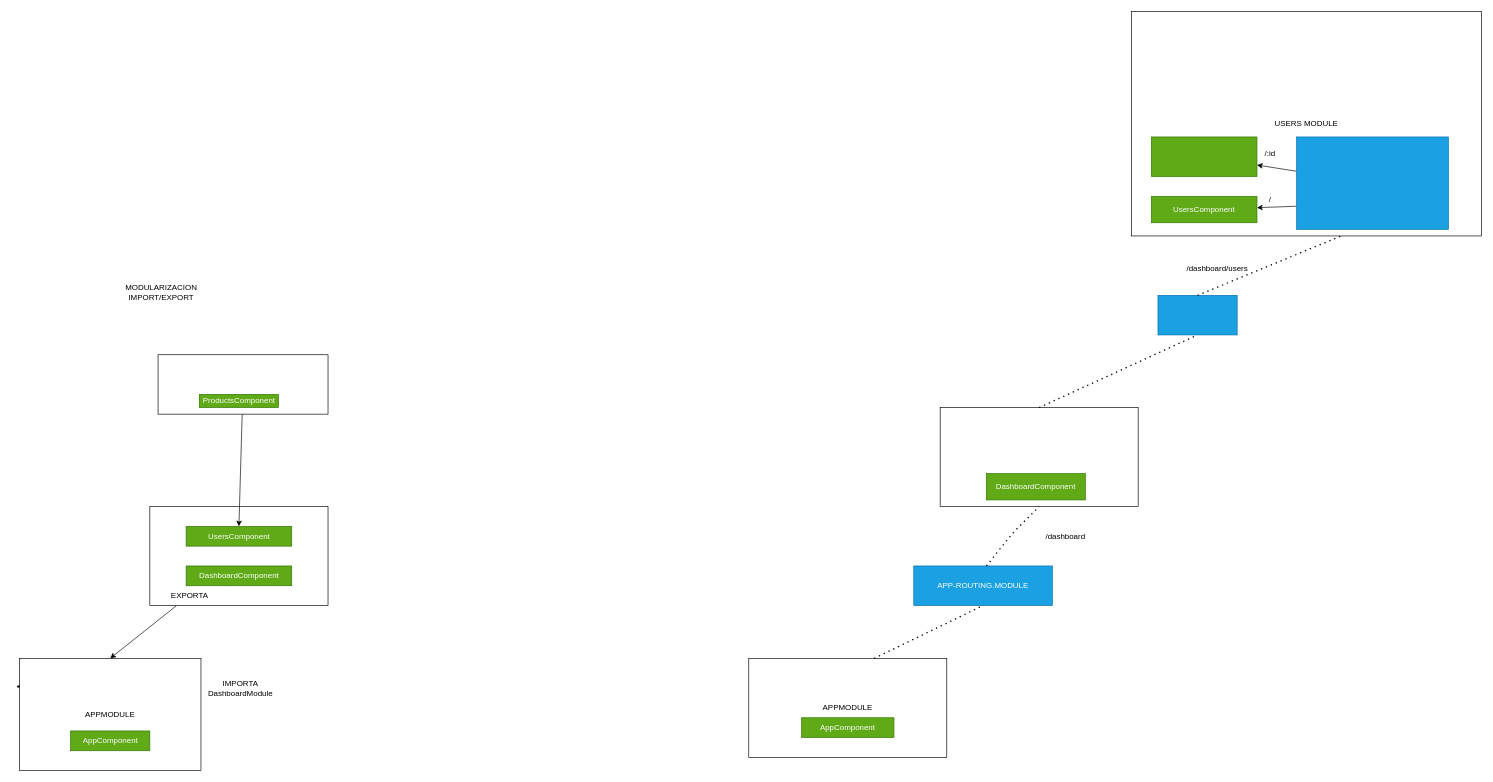
This 1493x782 diagram has some shape labels left out. The box of each missing label's shape, as (x1, y1, x2, y2) in pixels:
DASHBOARD MODULE: (149, 506, 328, 606)
DASHBOARD-ROUTING: (1157, 295, 1237, 335)
DASHBOARDMODULE: (940, 407, 1138, 507)
PRODUCTS MODULE: (157, 354, 328, 414)
USERS DETAIL COMPOENT: (1151, 136, 1257, 177)
USERS ROUTING MODULE: (1296, 136, 1448, 229)
